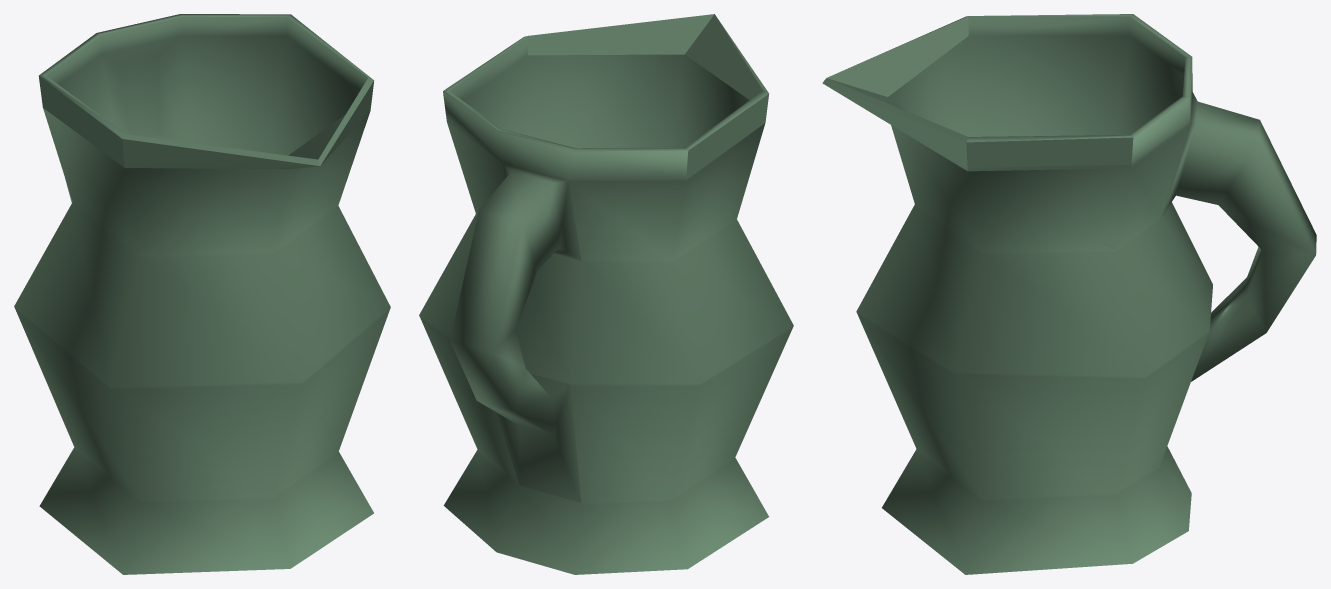
File: JarroBuild.fbx
3 views of the same model, side by side, from view 1: azimuth 30°, elevation 25°; view 2: azimuth 150°, elevation 25°; view 3: azimuth 270°, elevation 25° (orthographic). The views are drawn at different scales.
Visible parts, largest first — view 1: JarroModelo; view 2: JarroModelo; view 3: JarroModelo.
Part boxes in pixels (x1=…): JarroModelo: x1=14, y1=14, x2=390, y2=574; JarroModelo: x1=419, y1=14, x2=793, y2=574; JarroModelo: x1=822, y1=14, x2=1316, y2=574.
Size of the model in its own units: 7.26 by 10.52 by 10.74.
